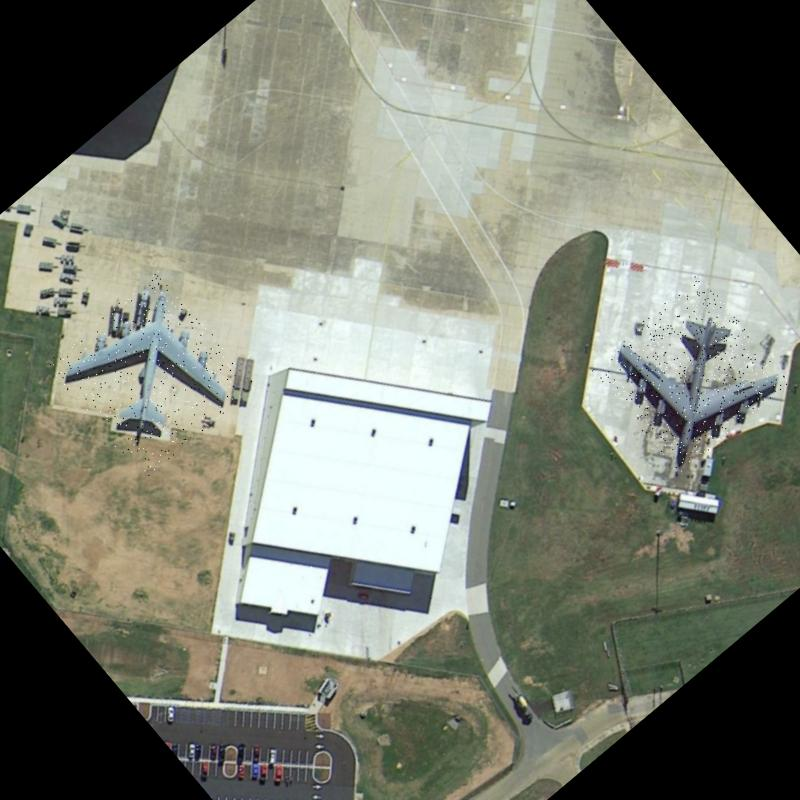A8: (45, 269, 255, 480), (588, 272, 790, 475)
